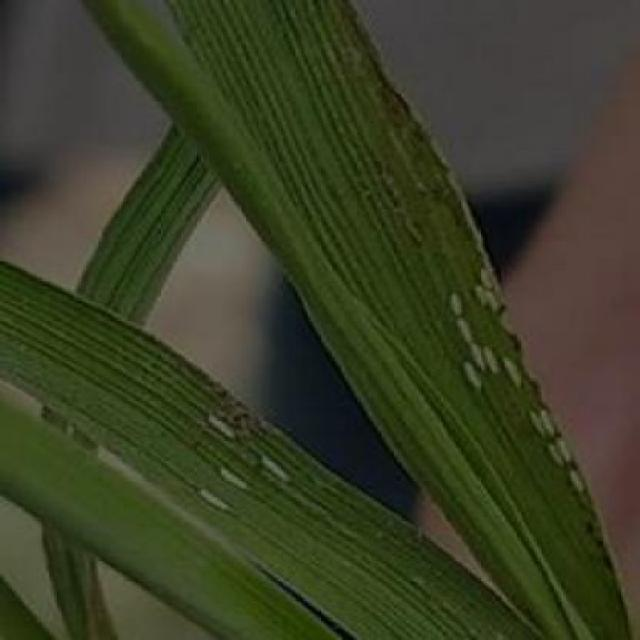whorl-maggot: (184, 409, 250, 445), (243, 446, 294, 485), (203, 466, 251, 494), (558, 468, 596, 502), (492, 348, 522, 390), (192, 486, 231, 517), (460, 357, 485, 400), (466, 262, 503, 290), (463, 343, 495, 372), (522, 412, 552, 442), (448, 319, 483, 343), (442, 286, 466, 319), (542, 443, 570, 465)
